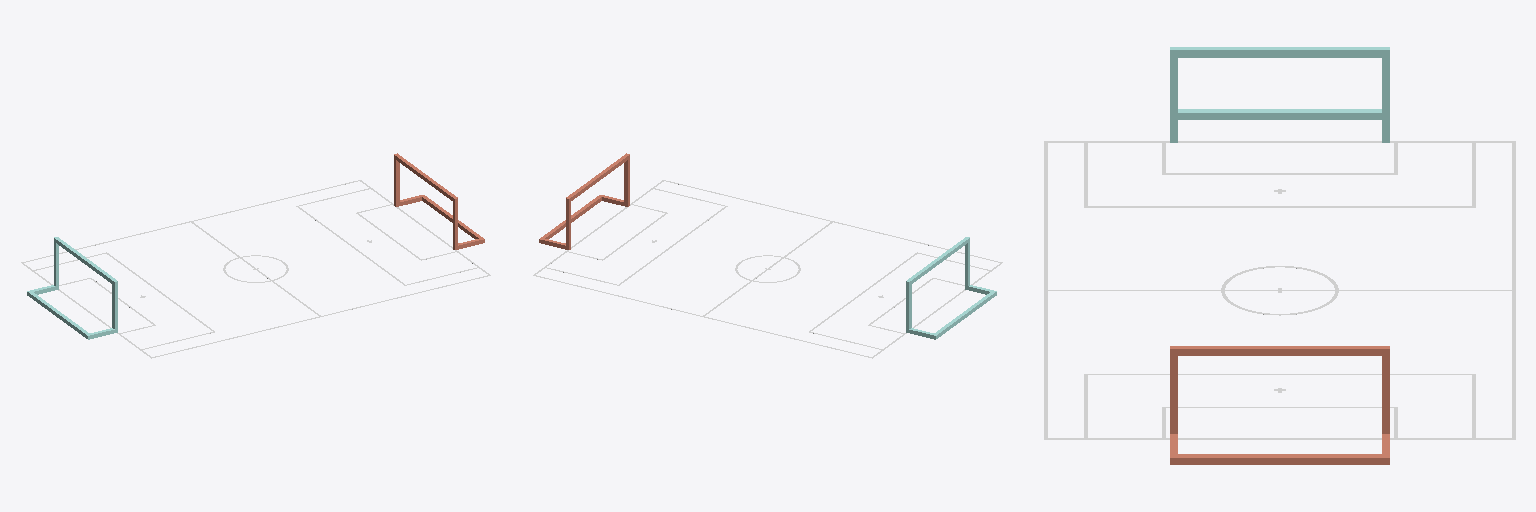
URDF robot description (field_urdf):
<?xml version="1.0" ?>
<!-- Generated using onshape-to-robot -->
<!-- OnShape https://cad.onshape.com/documents/7c9b2b33f4117af700005b74/w/eec38b17995152d190f4b18a/e/82b08cac68e6478dadc7fda9 -->
<robot name="field_urdf">
    <!-- Link base_link -->
    <link name="base_link">
        <inertial>
            <origin xyz="0 0 0" rpy="0 0 0"/>
            <mass value="0"/>
            <inertia ixx="0" ixy="0" ixz="0" iyy="0" iyz="0" izz="0"/>
        </inertial>
    </link>
    <!-- Link field -->
    <link name="field">
        <inertial>
            <origin xyz="0 0 0" rpy="0 0 0"/>
            <mass value="0"/>
            <inertia ixx="0" ixy="0" ixz="0" iyy="0" iyz="0" izz="0"/>
        </inertial>
        <!-- Part field -->
        <visual>
            <origin xyz="0 0 0" rpy="0 -0 0"/>
            <geometry>
                <mesh filename="package://assets/field.stl"/>
            </geometry>
            <material name="field_material">
                <color rgba="0.372549 0.654902 0.239216 1.0"/>
            </material>
        </visual>
        <collision>
            <origin xyz="0 0 0" rpy="0 -0 0"/>
            <geometry>
                <mesh filename="package://assets/field.stl"/>
            </geometry>
        </collision>
    </link>
    <!-- Joint from base_link to field -->
    <joint name="base_link_to_field" type="fixed">
        <origin xyz="0 0 0" rpy="0 -0 0"/>
        <parent link="base_link"/>
        <child link="field"/>
        <axis xyz="0 0 1"/>
        <limit effort="10" velocity="10"/>
    </joint>
    <!-- Link goalsally -->
    <link name="goalsally">
        <inertial>
            <origin xyz="0 0 0" rpy="0 0 0"/>
            <mass value="0"/>
            <inertia ixx="0" ixy="0" ixz="0" iyy="0" iyz="0" izz="0"/>
        </inertial>
        <!-- Part goalsally -->
        <visual>
            <origin xyz="0 0 0" rpy="0 -0 0"/>
            <geometry>
                <mesh filename="package://assets/goalsally.stl"/>
            </geometry>
            <material name="goalsally_material">
                <color rgba="0.737255 0.937255 0.917647 1.0"/>
            </material>
        </visual>
        <collision>
            <origin xyz="0 0 0" rpy="0 -0 0"/>
            <geometry>
                <mesh filename="package://assets/goalsally.stl"/>
            </geometry>
        </collision>
    </link>
    <!-- Joint from base_link to goalsally -->
    <joint name="base_link_to_goalsally" type="fixed">
        <origin xyz="0 0 0" rpy="0 -0 0"/>
        <parent link="base_link"/>
        <child link="goalsally"/>
        <axis xyz="0 0 1"/>
        <limit effort="10" velocity="10"/>
    </joint>
    <!-- Link goalsallyback -->
    <link name="goalsallyback">
        <inertial>
            <origin xyz="0 0 0" rpy="0 0 0"/>
            <mass value="0"/>
            <inertia ixx="0" ixy="0" ixz="0" iyy="0" iyz="0" izz="0"/>
        </inertial>
        <!-- Part goalsallyback -->
        <visual>
            <origin xyz="0 0 0" rpy="0 -0 0"/>
            <geometry>
                <mesh filename="package://assets/goalsallyback.stl"/>
            </geometry>
            <material name="goalsallyback_material">
                <color rgba="0 0.356863 0.329412 1.0"/>
            </material>
        </visual>
        <collision>
            <origin xyz="0 0 0" rpy="0 -0 0"/>
            <geometry>
                <mesh filename="package://assets/goalsallyback.stl"/>
            </geometry>
        </collision>
    </link>
    <!-- Joint from base_link to goalsallyback -->
    <joint name="base_link_to_goalsallyback" type="fixed">
        <origin xyz="0 0 0" rpy="0 -0 0"/>
        <parent link="base_link"/>
        <child link="goalsallyback"/>
        <axis xyz="0 0 1"/>
        <limit effort="10" velocity="10"/>
    </joint>
    <!-- Link goalsopponent -->
    <link name="goalsopponent">
        <inertial>
            <origin xyz="0 0 0" rpy="0 0 0"/>
            <mass value="0"/>
            <inertia ixx="0" ixy="0" ixz="0" iyy="0" iyz="0" izz="0"/>
        </inertial>
        <!-- Part goalsopponent -->
        <visual>
            <origin xyz="0 0 0" rpy="0 -0 0"/>
            <geometry>
                <mesh filename="package://assets/goalsopponent.stl"/>
            </geometry>
            <material name="goalsopponent_material">
                <color rgba="0.882353 0.572549 0.478431 1.0"/>
            </material>
        </visual>
        <collision>
            <origin xyz="0 0 0" rpy="0 -0 0"/>
            <geometry>
                <mesh filename="package://assets/goalsopponent.stl"/>
            </geometry>
        </collision>
    </link>
    <!-- Joint from base_link to goalsopponent -->
    <joint name="base_link_to_goalsopponent" type="fixed">
        <origin xyz="0 0 0" rpy="0 -0 0"/>
        <parent link="base_link"/>
        <child link="goalsopponent"/>
        <axis xyz="0 0 1"/>
        <limit effort="10" velocity="10"/>
    </joint>
    <!-- Link goalsopponentback -->
    <link name="goalsopponentback">
        <inertial>
            <origin xyz="0 0 0" rpy="0 0 0"/>
            <mass value="0"/>
            <inertia ixx="0" ixy="0" ixz="0" iyy="0" iyz="0" izz="0"/>
        </inertial>
        <!-- Part goalsopponentback -->
        <visual>
            <origin xyz="0 0 0" rpy="0 -0 0"/>
            <geometry>
                <mesh filename="package://assets/goalsopponentback.stl"/>
            </geometry>
            <material name="goalsopponentback_material">
                <color rgba="0.458824 0.105882 0 1.0"/>
            </material>
        </visual>
        <collision>
            <origin xyz="0 0 0" rpy="0 -0 0"/>
            <geometry>
                <mesh filename="package://assets/goalsopponentback.stl"/>
            </geometry>
        </collision>
    </link>
    <!-- Joint from base_link to goalsopponentback -->
    <joint name="base_link_to_goalsopponentback" type="fixed">
        <origin xyz="0 0 0" rpy="0 -0 0"/>
        <parent link="base_link"/>
        <child link="goalsopponentback"/>
        <axis xyz="0 0 1"/>
        <limit effort="10" velocity="10"/>
    </joint>
    <!-- Link lines -->
    <link name="lines">
        <inertial>
            <origin xyz="0 0 0" rpy="0 0 0"/>
            <mass value="0"/>
            <inertia ixx="0" ixy="0" ixz="0" iyy="0" iyz="0" izz="0"/>
        </inertial>
        <!-- Part lines -->
        <visual>
            <origin xyz="-3.06664e-16 -6.37325e-14 0" rpy="0 -0 0"/>
            <geometry>
                <mesh filename="package://assets/lines.stl"/>
            </geometry>
            <material name="lines_material">
                <color rgba="0.917647 0.917647 0.917647 1.0"/>
            </material>
        </visual>
        <collision>
            <origin xyz="-3.06664e-16 -6.37325e-14 0" rpy="0 -0 0"/>
            <geometry>
                <mesh filename="package://assets/lines.stl"/>
            </geometry>
        </collision>
    </link>
    <!-- Joint from base_link to lines -->
    <joint name="base_link_to_lines" type="fixed">
        <origin xyz="0 0 0" rpy="0 -0 0"/>
        <parent link="base_link"/>
        <child link="lines"/>
        <axis xyz="0 0 1"/>
        <limit effort="10" velocity="10"/>
    </joint>
    <!-- Link penaltyally -->
    <link name="penaltyally">
        <inertial>
            <origin xyz="0 0 0" rpy="0 0 0"/>
            <mass value="0"/>
            <inertia ixx="0" ixy="0" ixz="0" iyy="0" iyz="0" izz="0"/>
        </inertial>
        <!-- Part penaltyally -->
        <visual>
            <origin xyz="0 0 0" rpy="0 -0 0"/>
            <geometry>
                <mesh filename="package://assets/penaltyally.stl"/>
            </geometry>
            <material name="penaltyally_material">
                <color rgba="0.917647 0.917647 0.917647 1.0"/>
            </material>
        </visual>
        <collision>
            <origin xyz="0 0 0" rpy="0 -0 0"/>
            <geometry>
                <mesh filename="package://assets/penaltyally.stl"/>
            </geometry>
        </collision>
    </link>
    <!-- Joint from base_link to penaltyally -->
    <joint name="base_link_to_penaltyally" type="fixed">
        <origin xyz="0 0 0" rpy="0 -0 0"/>
        <parent link="base_link"/>
        <child link="penaltyally"/>
        <axis xyz="0 0 1"/>
        <limit effort="10" velocity="10"/>
    </joint>
    <!-- Link penaltyopponent -->
    <link name="penaltyopponent">
        <inertial>
            <origin xyz="0 0 0" rpy="0 0 0"/>
            <mass value="0"/>
            <inertia ixx="0" ixy="0" ixz="0" iyy="0" iyz="0" izz="0"/>
        </inertial>
        <!-- Part penaltyopponent -->
        <visual>
            <origin xyz="0 0 0" rpy="0 -0 0"/>
            <geometry>
                <mesh filename="package://assets/penaltyopponent.stl"/>
            </geometry>
            <material name="penaltyopponent_material">
                <color rgba="0.917647 0.917647 0.917647 1.0"/>
            </material>
        </visual>
        <collision>
            <origin xyz="0 0 0" rpy="0 -0 0"/>
            <geometry>
                <mesh filename="package://assets/penaltyopponent.stl"/>
            </geometry>
        </collision>
    </link>
    <!-- Joint from base_link to penaltyopponent -->
    <joint name="base_link_to_penaltyopponent" type="fixed">
        <origin xyz="0 0 0" rpy="0 -0 0"/>
        <parent link="base_link"/>
        <child link="penaltyopponent"/>
        <axis xyz="0 0 1"/>
        <limit effort="10" velocity="10"/>
    </joint>
    <!-- Link table -->
    <link name="table">
        <inertial>
            <origin xyz="0 0 0" rpy="0 0 0"/>
            <mass value="0"/>
            <inertia ixx="0" ixy="0" ixz="0" iyy="0" iyz="0" izz="0"/>
        </inertial>
        <!-- Part table -->
        <visual>
            <origin xyz="0 0 0" rpy="0 -0 0"/>
            <geometry>
                <mesh filename="package://assets/table.stl"/>
            </geometry>
            <material name="table_material">
                <color rgba="0.447059 0.243137 0 1.0"/>
            </material>
        </visual>
        <collision>
            <origin xyz="0 0 0" rpy="0 -0 0"/>
            <geometry>
                <mesh filename="package://assets/table.stl"/>
            </geometry>
        </collision>
    </link>
    <!-- Joint from base_link to table -->
    <joint name="base_link_to_table" type="fixed">
        <origin xyz="0 0 0" rpy="0 -0 0"/>
        <parent link="base_link"/>
        <child link="table"/>
        <axis xyz="0 0 1"/>
        <limit effort="10" velocity="10"/>
    </joint>
    <!-- Link table2 -->
    <link name="table2">
        <inertial>
            <origin xyz="0 0 0" rpy="0 0 0"/>
            <mass value="0"/>
            <inertia ixx="0" ixy="0" ixz="0" iyy="0" iyz="0" izz="0"/>
        </inertial>
        <!-- Part table2 -->
        <visual>
            <origin xyz="0 0 0" rpy="0 -0 0"/>
            <geometry>
                <mesh filename="package://assets/table2.stl"/>
            </geometry>
            <material name="table2_material">
                <color rgba="0.447059 0.243137 0 1.0"/>
            </material>
        </visual>
        <collision>
            <origin xyz="0 0 0" rpy="0 -0 0"/>
            <geometry>
                <mesh filename="package://assets/table2.stl"/>
            </geometry>
        </collision>
    </link>
    <!-- Joint from base_link to table2 -->
    <joint name="base_link_to_table2" type="fixed">
        <origin xyz="0 0 0" rpy="0 -0 0"/>
        <parent link="base_link"/>
        <child link="table2"/>
        <axis xyz="0 0 1"/>
        <limit effort="10" velocity="10"/>
    </joint>
    <!-- Link table3 -->
    <link name="table3">
        <inertial>
            <origin xyz="0 0 0" rpy="0 0 0"/>
            <mass value="0"/>
            <inertia ixx="0" ixy="0" ixz="0" iyy="0" iyz="0" izz="0"/>
        </inertial>
        <!-- Part table3 -->
        <visual>
            <origin xyz="0 0 0" rpy="0 -0 0"/>
            <geometry>
                <mesh filename="package://assets/table3.stl"/>
            </geometry>
            <material name="table3_material">
                <color rgba="0.447059 0.243137 0 1.0"/>
            </material>
        </visual>
        <collision>
            <origin xyz="0 0 0" rpy="0 -0 0"/>
            <geometry>
                <mesh filename="package://assets/table3.stl"/>
            </geometry>
        </collision>
    </link>
    <!-- Joint from base_link to table3 -->
    <joint name="base_link_to_table3" type="fixed">
        <origin xyz="0 0 0" rpy="0 -0 0"/>
        <parent link="base_link"/>
        <child link="table3"/>
        <axis xyz="0 0 1"/>
        <limit effort="10" velocity="10"/>
    </joint>
    <!-- Link table4 -->
    <link name="table4">
        <inertial>
            <origin xyz="0 0 0" rpy="0 0 0"/>
            <mass value="0"/>
            <inertia ixx="0" ixy="0" ixz="0" iyy="0" iyz="0" izz="0"/>
        </inertial>
        <!-- Part table4 -->
        <visual>
            <origin xyz="0 0 0" rpy="0 -0 0"/>
            <geometry>
                <mesh filename="package://assets/table4.stl"/>
            </geometry>
            <material name="table4_material">
                <color rgba="0.447059 0.243137 0 1.0"/>
            </material>
        </visual>
        <collision>
            <origin xyz="0 0 0" rpy="0 -0 0"/>
            <geometry>
                <mesh filename="package://assets/table4.stl"/>
            </geometry>
        </collision>
    </link>
    <!-- Joint from base_link to table4 -->
    <joint name="base_link_to_table4" type="fixed">
        <origin xyz="0 0 0" rpy="0 -0 0"/>
        <parent link="base_link"/>
        <child link="table4"/>
        <axis xyz="0 0 1"/>
        <limit effort="10" velocity="10"/>
    </joint>
</robot>

--- Render facts (derived) ---
The picture shows the robot from 3 angles, left to right: view 1: azimuth 30°, elevation 25°; view 2: azimuth 150°, elevation 25°; view 3: azimuth 270°, elevation 25°; orthographic projection.
Robot: field_urdf — 13 links, 12 joints (12 fixed); root link base_link; default pose: all joints at 0.
Visible links, largest first — view 1: lines, goalsally, goalsopponent; view 2: lines, goalsally, goalsopponent; view 3: lines, goalsopponent, goalsally.
Link boxes in pixels (box(x1,y1,x2,y2)): lines: box(21, 180, 490, 358); goalsally: box(27, 237, 117, 339); goalsopponent: box(394, 153, 484, 249); lines: box(533, 180, 1002, 358); goalsally: box(906, 237, 996, 339); goalsopponent: box(539, 153, 629, 249); lines: box(1044, 141, 1515, 439); goalsopponent: box(1170, 346, 1389, 464); goalsally: box(1170, 47, 1389, 142).
Bounding box of the posed robot: 10.5 × 6 × 1.3 m (x, y, z).
Meshes: 12 distinct files referenced, 5 mesh visuals loaded (5 binary STL); not drawn: 7 (reference not matched to a file when rendering).